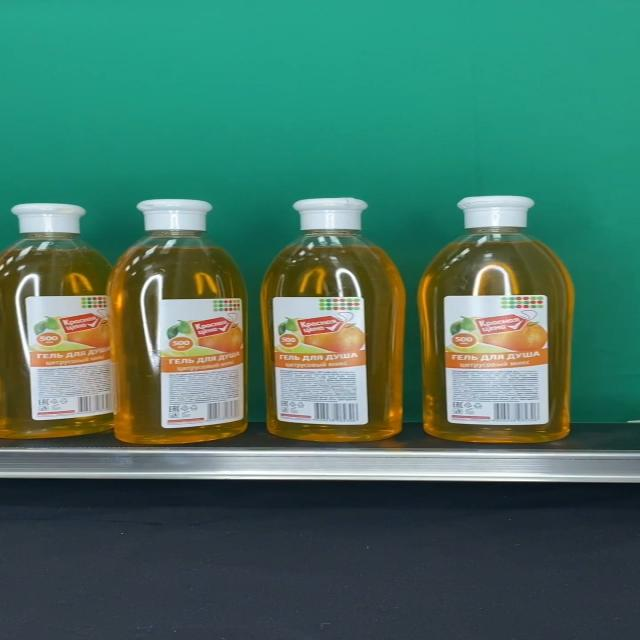Bottle: (417, 195, 574, 442), (262, 197, 405, 442), (107, 199, 248, 445), (0, 202, 115, 439)
Cap: (456, 196, 535, 228), (136, 198, 212, 230), (293, 198, 368, 230), (11, 202, 86, 233)
